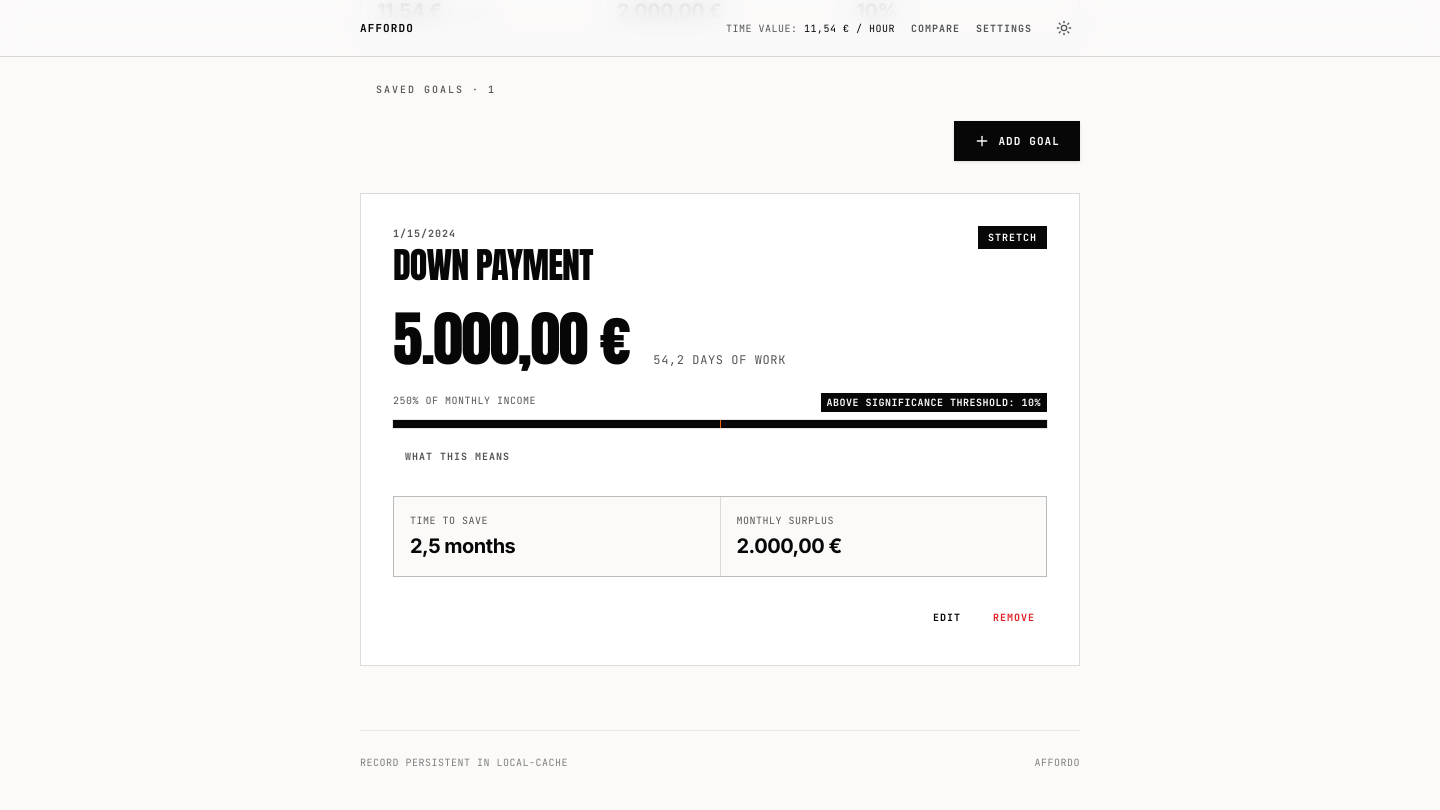
Scenario: Editing a goal — saving updates it in place › replaces the goal rather than adding a second one
The image size is (1440, 810).
(page scrolled)
Click the button "Edit".
click(947, 617)  # box [921,601,973,633]
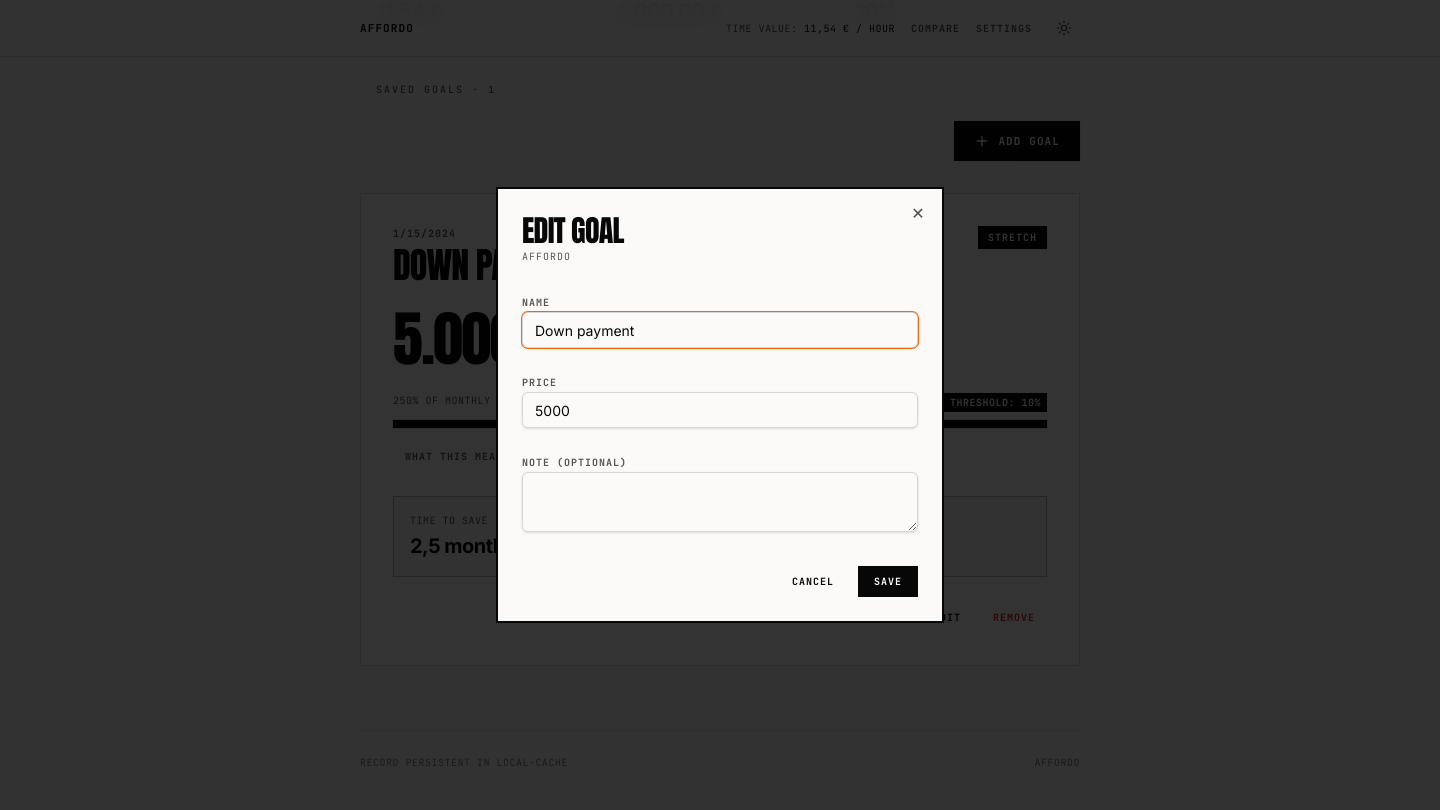
Replace the text in the field labelled "Name" with "House deposit" at (720,330), box [522,312,918,348]
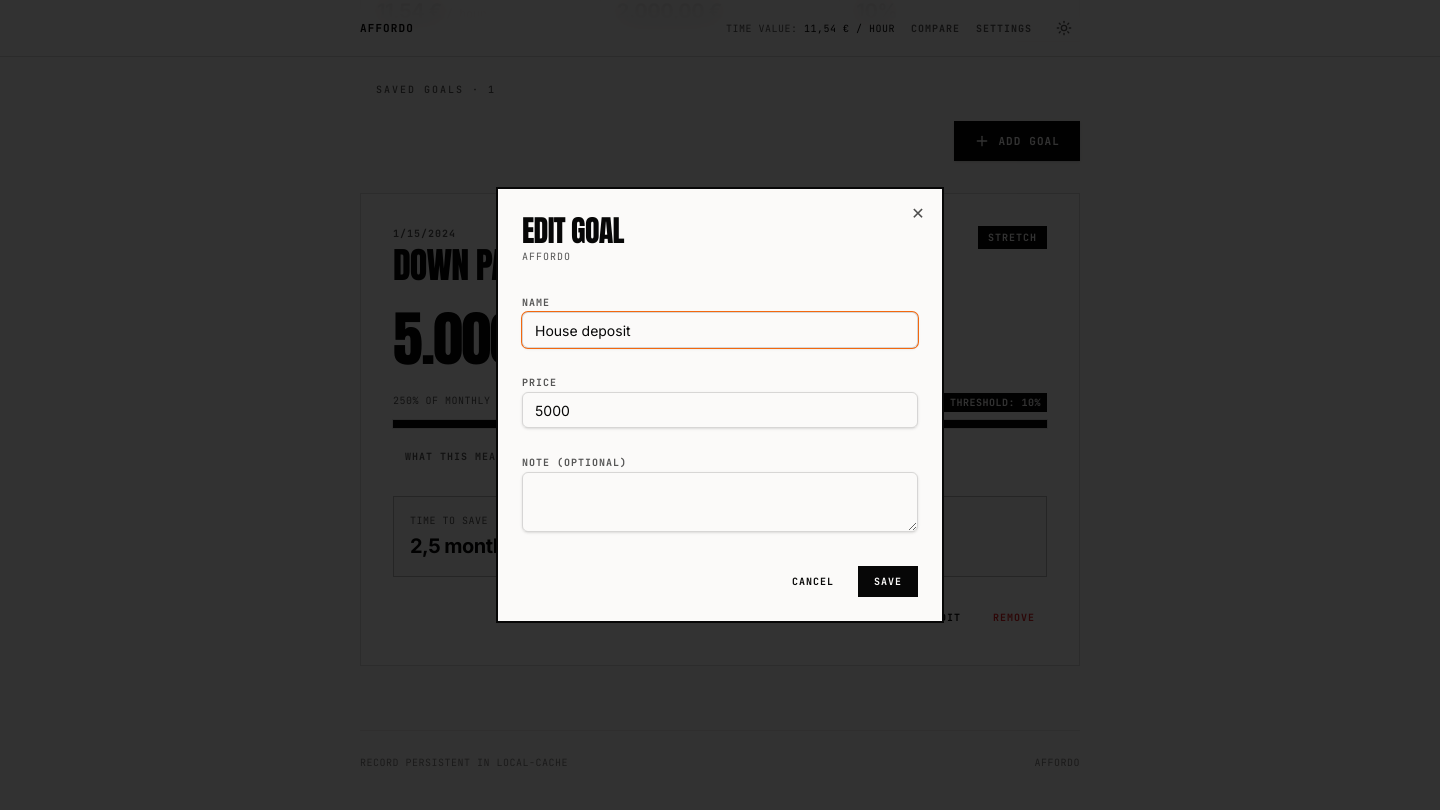
Click the button "Save".
click(888, 582)  # box [858,566,918,597]
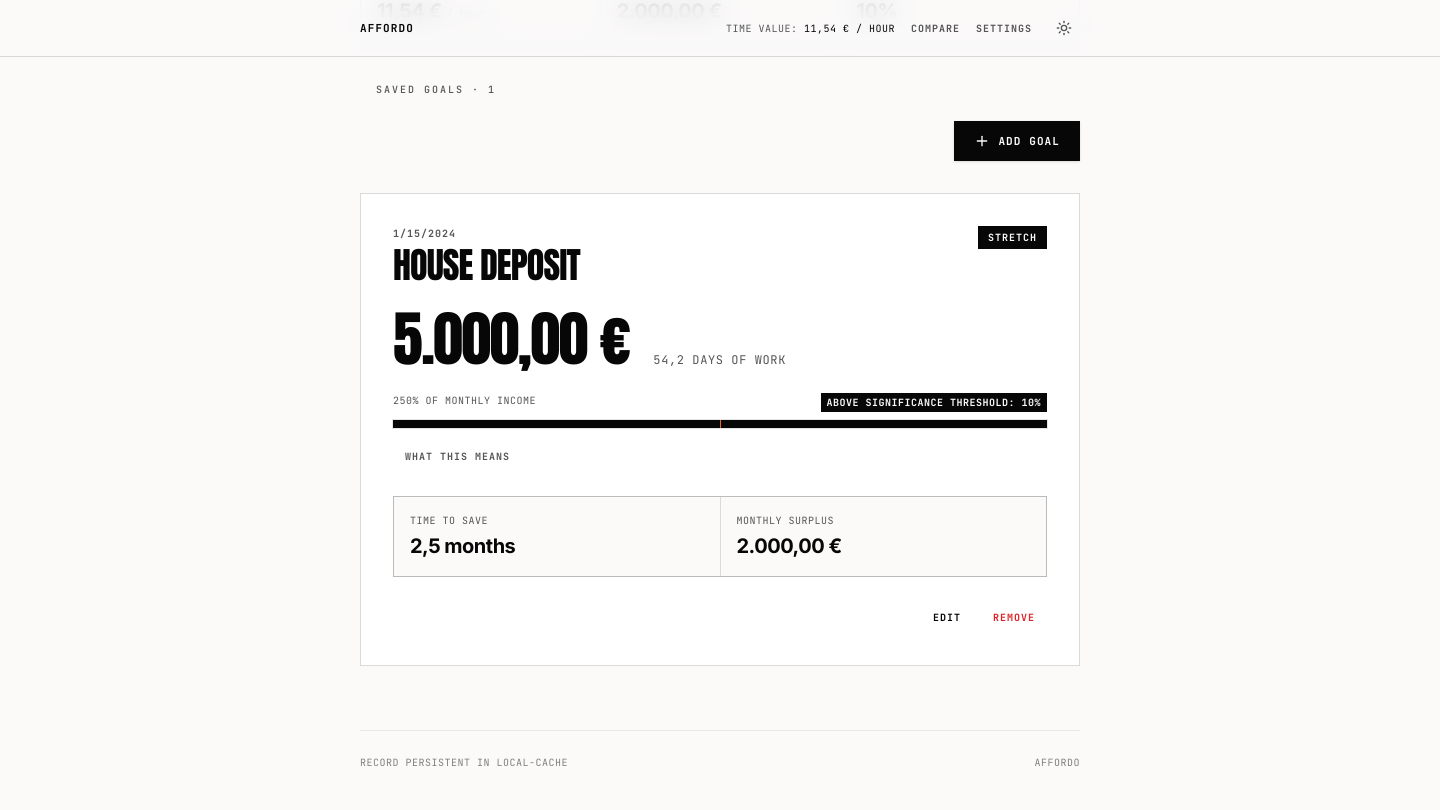
Result: the dialog is gone
Result: the list with test id "goals-list" shows "House deposit" at [393,238,580,292]
Result: the list with test id "goals-list" no longer shows "Down payment" at [360,193,1080,666]
